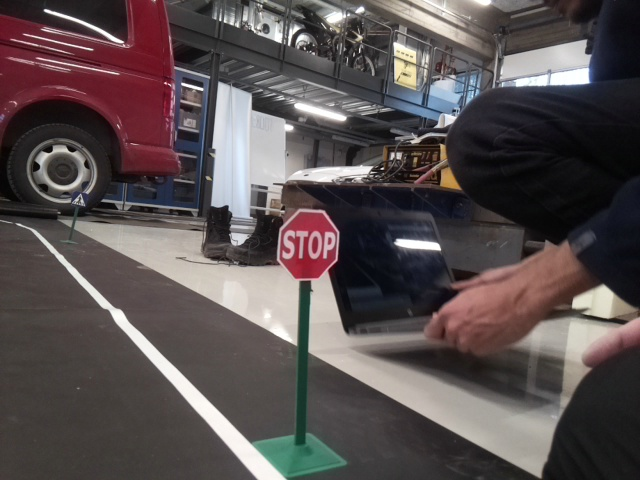Stop: (273, 206, 340, 281)
